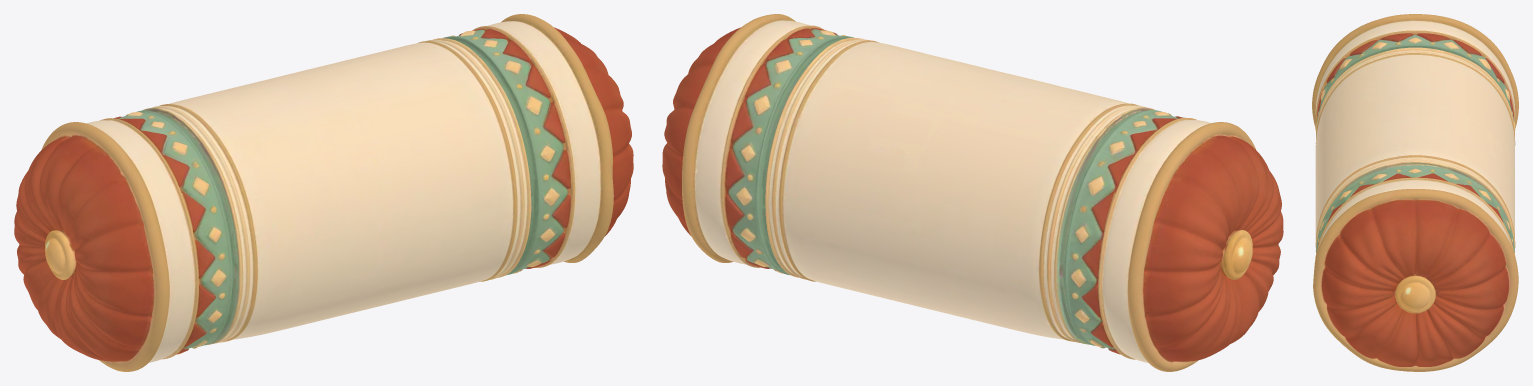
The model's file is Meshy_AI_model.glb.
3 views of the same model, side by side, from view 1: azimuth 30°, elevation 25°; view 2: azimuth 150°, elevation 25°; view 3: azimuth 270°, elevation 25° (orthographic). The views are drawn at different scales.
Parts seen in each view (by area): view 1: mesh_node; view 2: mesh_node; view 3: mesh_node.
Part boxes in pixels (bbox=[...]): mesh_node: bbox=[14, 14, 633, 371]; mesh_node: bbox=[662, 14, 1283, 371]; mesh_node: bbox=[1312, 14, 1518, 371].
Size of the model in its own units: 1.9 by 0.7512 by 0.7719.
Materials: 1 (1 with a texture image).
